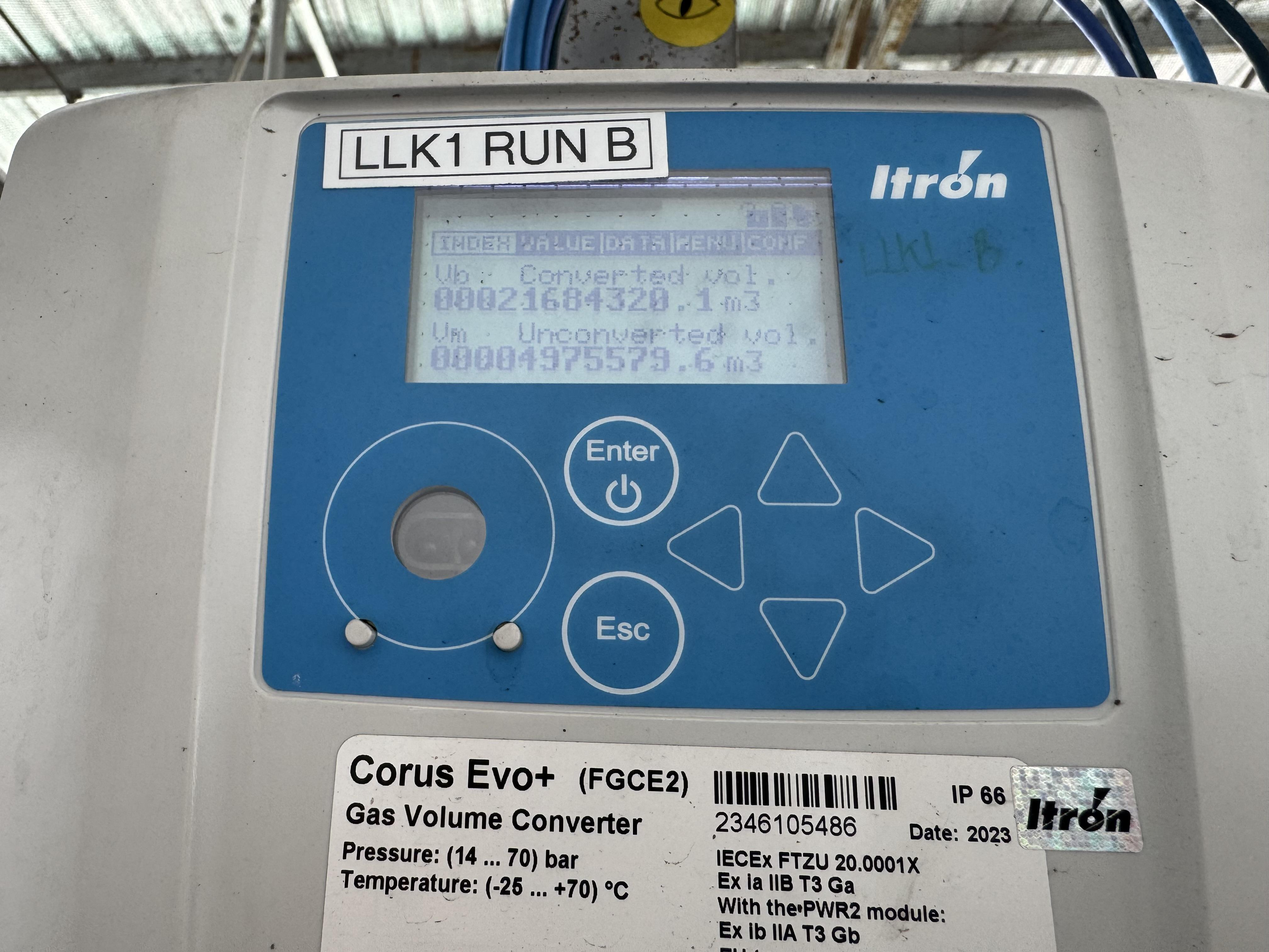digital_screen: (406, 168, 848, 383)
